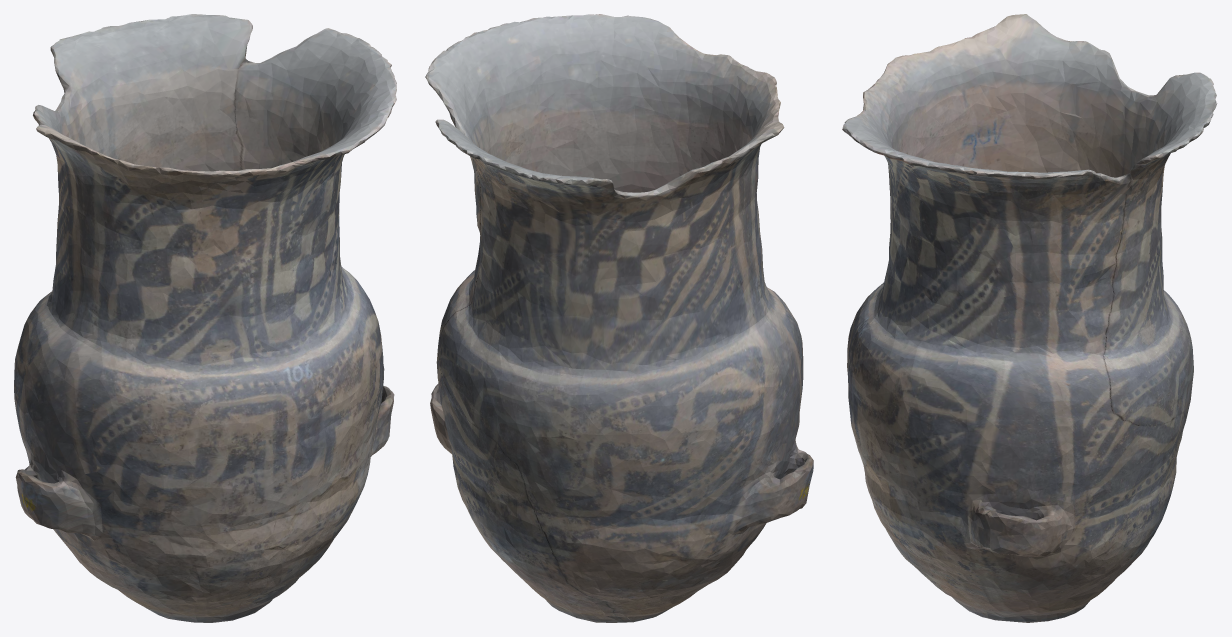
3 views of the same model, side by side, from view 1: azimuth 30°, elevation 25°; view 2: azimuth 150°, elevation 25°; view 3: azimuth 270°, elevation 25° (orthographic).
Parts seen in each view (by area): view 1: MA0480; view 2: MA0480; view 3: MA0480.
Part boxes in pixels (x1,y1,x2,y2): MA0480: [14, 14, 396, 622]; MA0480: [425, 14, 813, 622]; MA0480: [842, 14, 1217, 622].
Bounding box in the file's own units: 2.26 × 2.98 × 2.
Materials: 1 (1 with a texture image).
